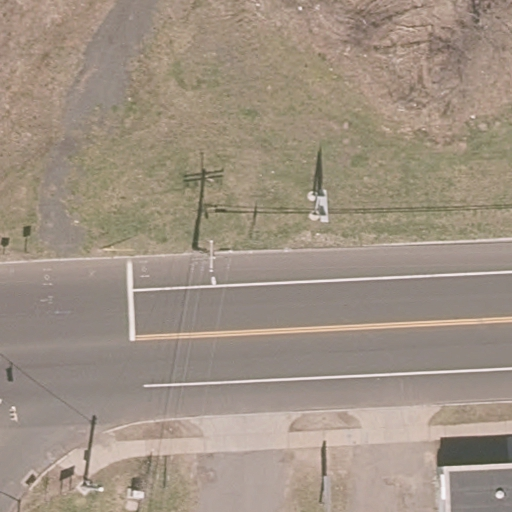DT: (207, 238, 216, 279)
